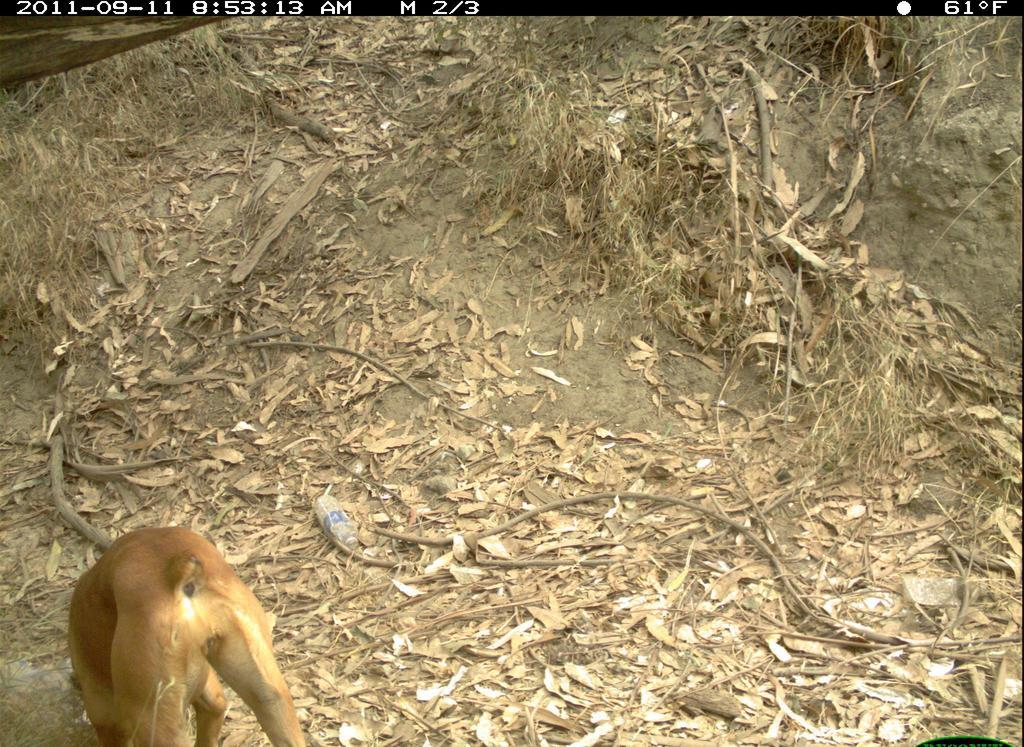dog: (58, 518, 315, 743)
